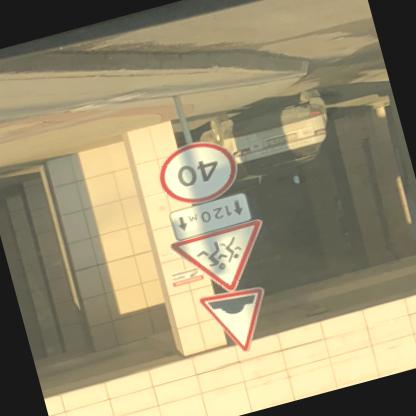speedlimit: (153, 133, 245, 211)
